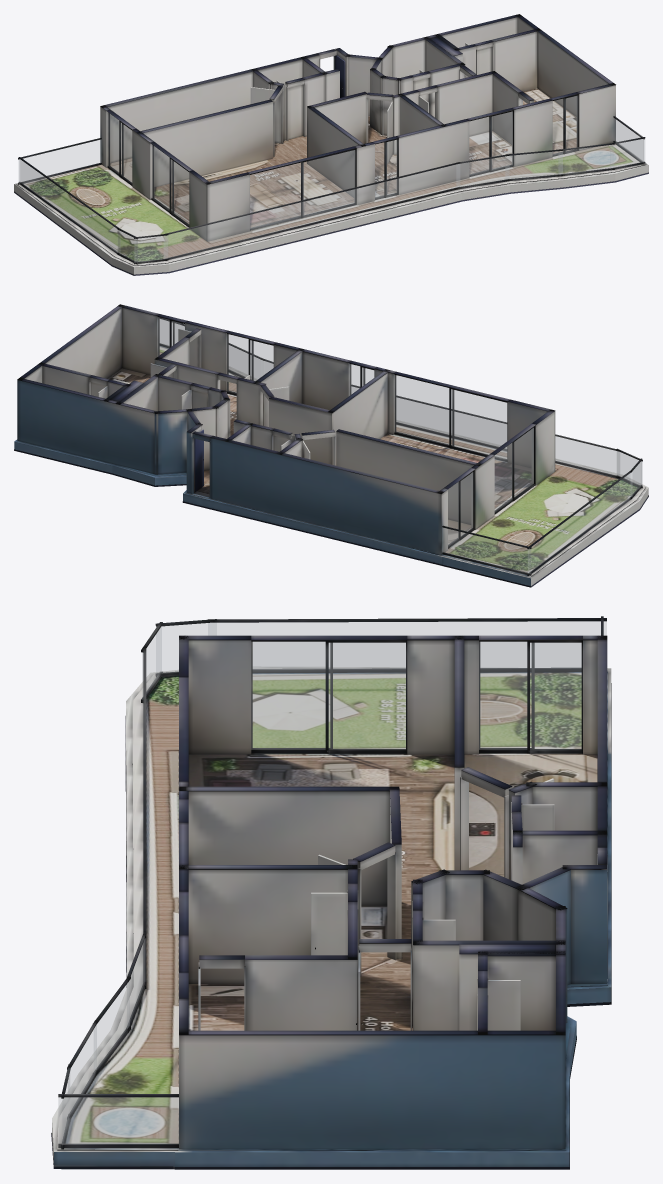
The picture shows the model from 3 angles, top to bottom: view 1: azimuth 30°, elevation 25°; view 2: azimuth 150°, elevation 25°; view 3: azimuth 270°, elevation 25°; orthographic projection. The views are drawn at different scales.
Visible parts, largest first — view 1: plan, railg1_m, glass2_m, railg9_m, glass4_m, glass1_m, railg0_m, railg5_m, railg4_m, railg6_m, glass5_m, glass0_m (+5 smaller); view 2: plan, glass2_m, railg1_m, railg9_m, railg0_m, glass1_m, glass4_m, glass0_m, railg5_m, glass5_m, railg7_m, glass3_m; view 3: plan, glass1_m, railg9_m, glass0_m, railg2_m, railg5_m, railg8_m, railg4_m, railg6_m, railg7_m.
Part boxes in pixels (x1,y1,x2,y2): plan: (14, 14, 648, 275); railg1_m: (164, 164, 459, 258); glass2_m: (250, 150, 354, 228); railg9_m: (20, 160, 120, 253); glass4_m: (469, 111, 512, 174); glass1_m: (152, 145, 188, 224); railg0_m: (18, 140, 101, 182); railg5_m: (506, 151, 562, 178); railg4_m: (558, 145, 613, 174); railg6_m: (456, 156, 509, 187); glass5_m: (553, 96, 577, 154); glass0_m: (108, 113, 131, 182); plan: (14, 304, 648, 587); glass2_m: (395, 375, 506, 458); railg1_m: (352, 387, 619, 476); railg9_m: (528, 472, 632, 573); railg0_m: (443, 528, 530, 573); glass1_m: (495, 428, 533, 511); glass4_m: (227, 334, 273, 392); glass0_m: (448, 472, 472, 545); railg5_m: (229, 345, 263, 380); glass5_m: (158, 317, 184, 355); railg7_m: (617, 451, 642, 485); glass3_m: (350, 364, 373, 394); plan: (51, 616, 611, 1169); glass1_m: (251, 642, 405, 749); railg9_m: (208, 621, 606, 668); glass0_m: (479, 642, 581, 749); railg2_m: (58, 1097, 178, 1143); railg5_m: (94, 981, 129, 1072); railg8_m: (156, 623, 216, 673); railg4_m: (68, 1025, 96, 1112); railg6_m: (127, 940, 144, 1028); railg7_m: (142, 627, 161, 699).
Size of the model in its own units: 20.57 by 2.62 by 10.01.
2 materials, 1 textured.
